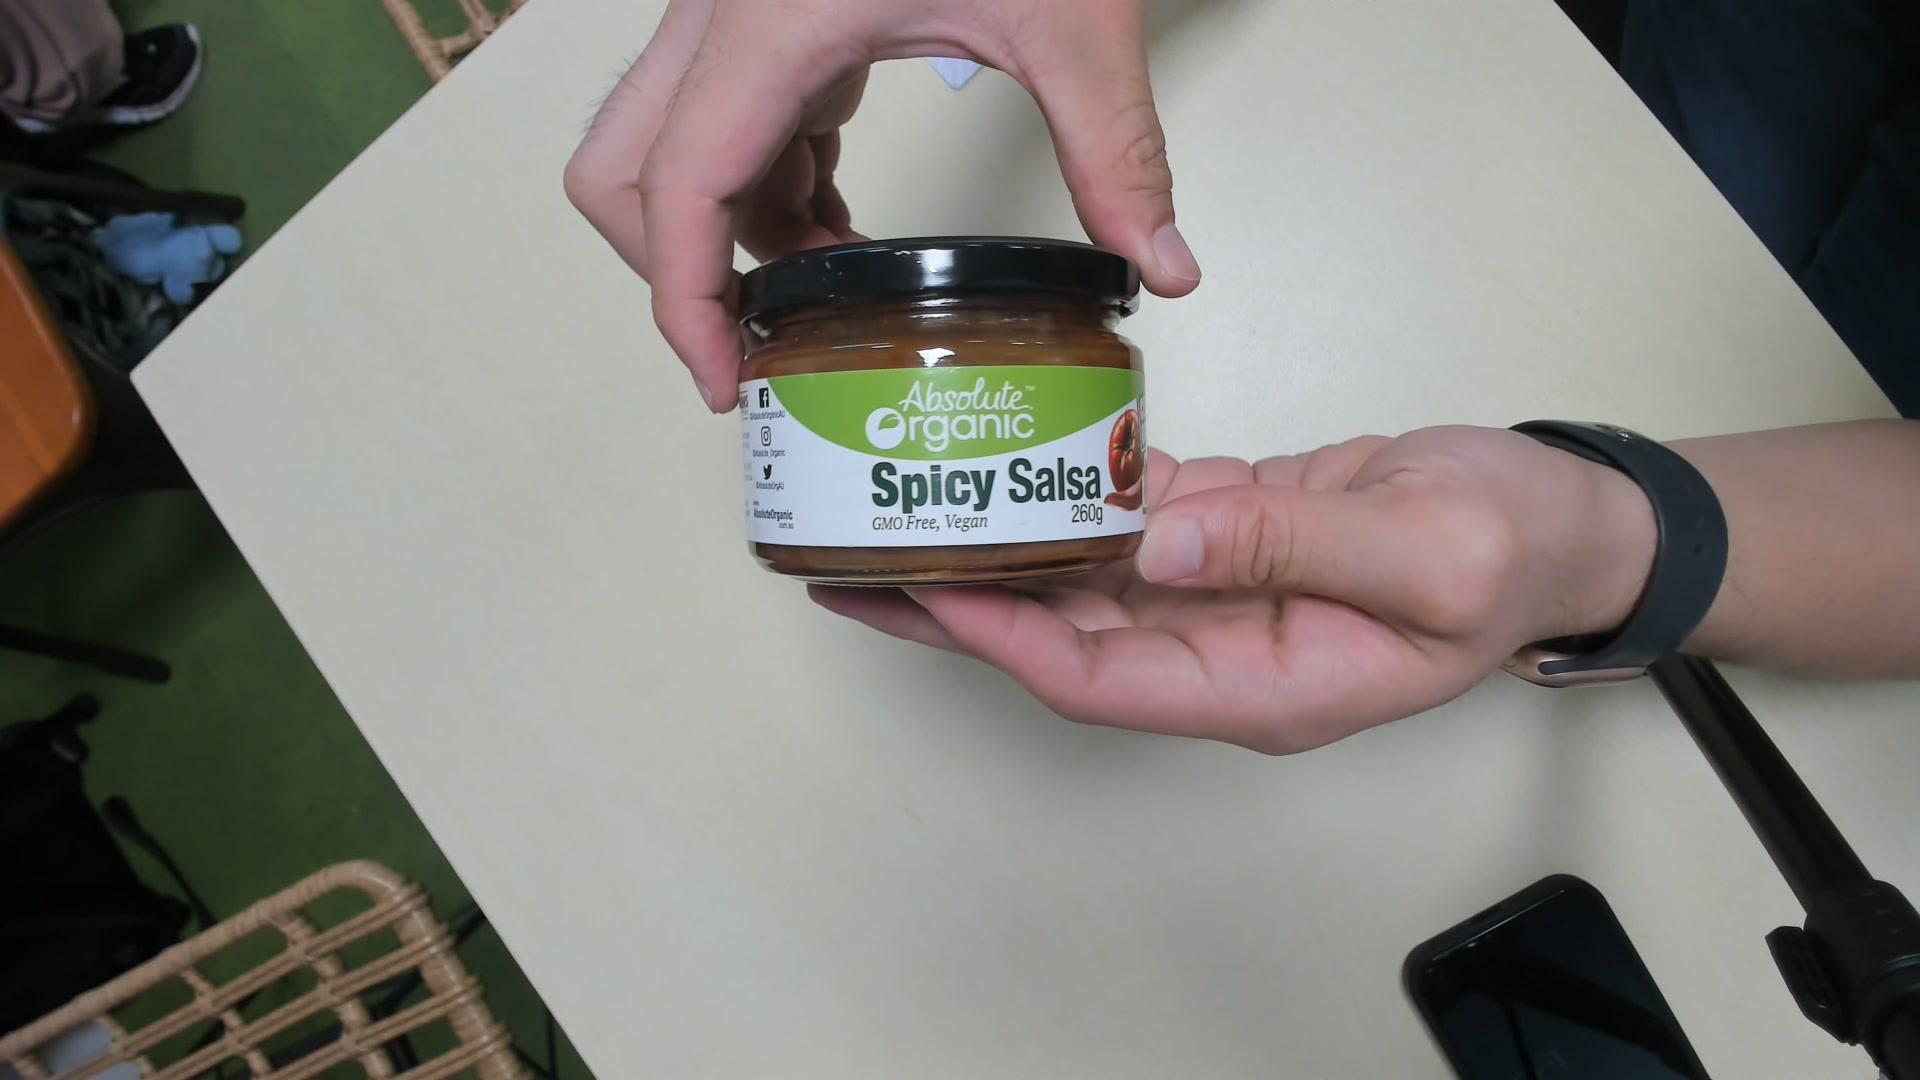OtherSauceDressing_200-299g_NonHalal_NonHealthy: (738, 252, 1153, 583)
